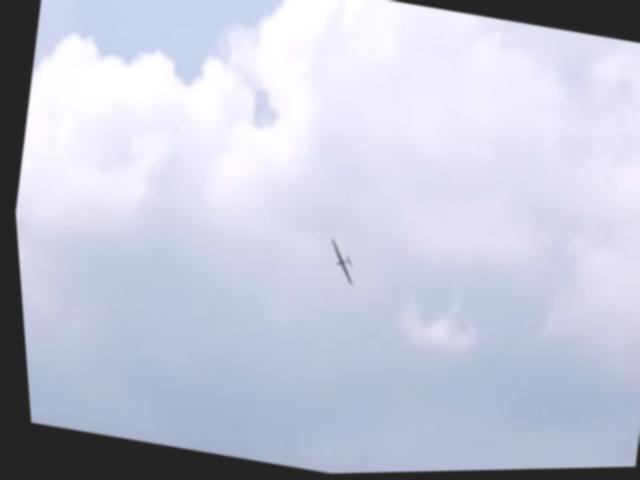uav: (312, 231, 360, 290)
